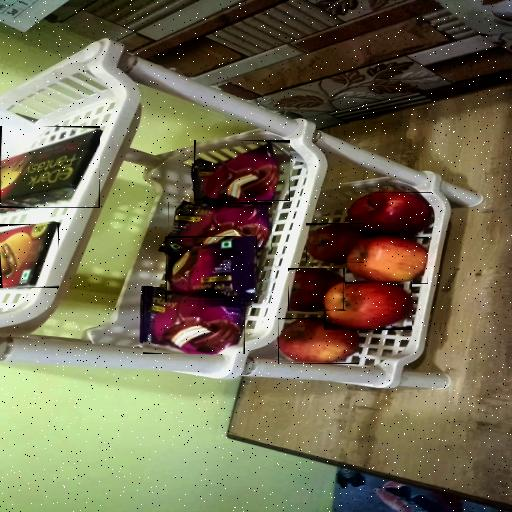Apple: (324, 282, 412, 330), (348, 192, 432, 240), (346, 237, 428, 284), (278, 318, 359, 364), (306, 223, 364, 263), (289, 269, 344, 310)
Choco Fills: (0, 126, 100, 208), (0, 224, 59, 288)
Choco Pie: (143, 287, 245, 354), (194, 140, 290, 201), (167, 236, 257, 301), (168, 202, 272, 252)
